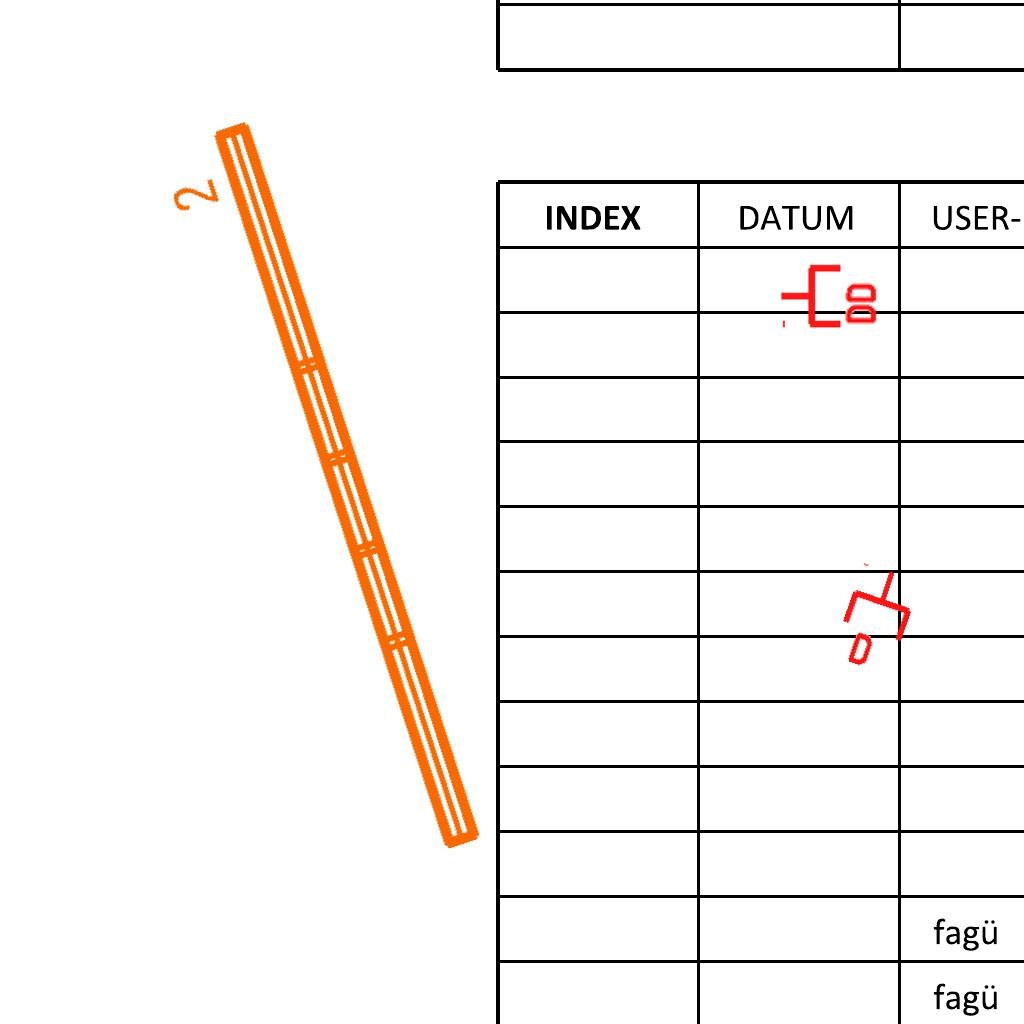Ambulanz_Pendelleuchte_LED: (150, 108, 496, 880)
Datenanschluss_einfach: (827, 559, 926, 677)
Datenanschluss_zweifach: (778, 260, 881, 329)
